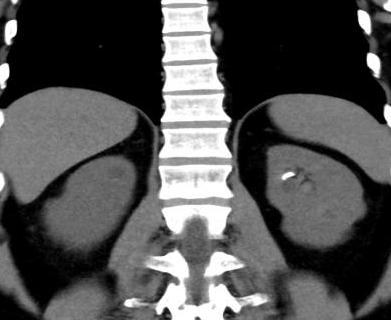Tas_Var: (279, 168, 296, 182)
